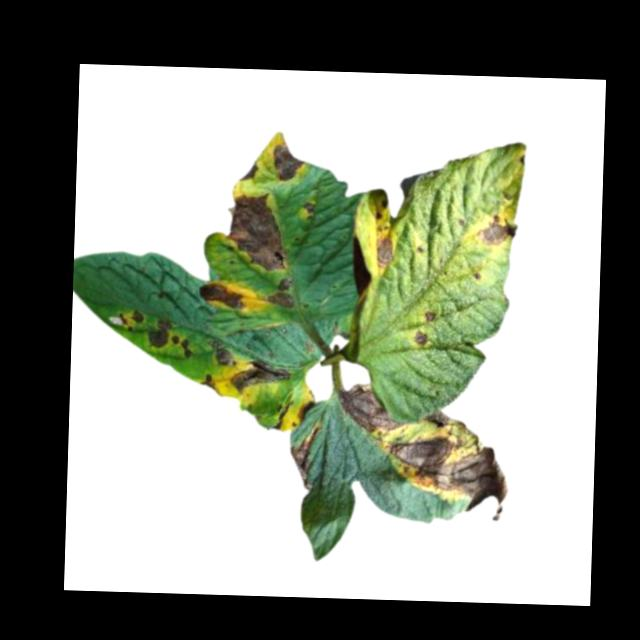Early_blight: (383, 427, 511, 520), (225, 191, 290, 273), (337, 381, 407, 430), (229, 354, 291, 396), (288, 421, 317, 491), (475, 213, 517, 250), (196, 282, 246, 312), (270, 143, 304, 184), (261, 276, 295, 311), (373, 231, 394, 273), (421, 409, 465, 429), (205, 341, 236, 369), (144, 319, 172, 349), (118, 308, 144, 333), (196, 372, 222, 395), (170, 335, 192, 360), (239, 159, 259, 184), (296, 402, 316, 422), (410, 329, 428, 348), (302, 202, 315, 223), (422, 310, 435, 325)
